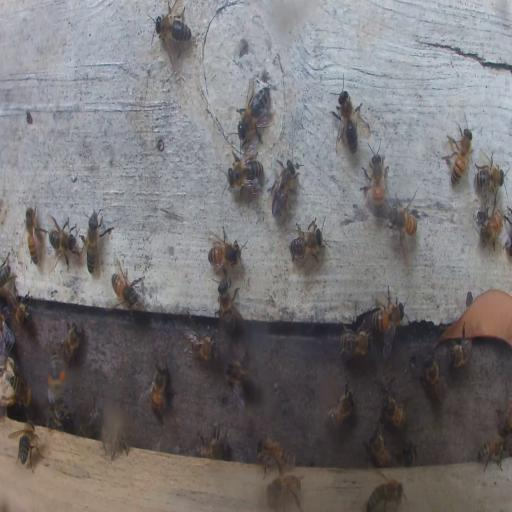bee: (236, 79, 272, 144), (333, 82, 362, 154), (223, 352, 262, 404), (269, 156, 300, 220), (152, 2, 192, 50), (444, 122, 473, 186), (362, 146, 388, 216), (47, 215, 79, 267), (386, 195, 419, 245), (206, 228, 244, 271), (227, 146, 263, 191), (111, 268, 144, 316), (289, 218, 325, 262), (324, 385, 356, 433), (473, 149, 506, 195), (255, 434, 291, 474), (12, 421, 40, 469), (368, 477, 407, 511), (84, 208, 103, 276), (216, 279, 240, 331), (370, 298, 404, 334), (56, 320, 83, 364), (478, 205, 506, 247), (266, 474, 302, 506), (380, 389, 407, 431), (367, 426, 394, 468), (477, 435, 507, 472), (46, 352, 66, 406), (148, 362, 167, 418), (186, 329, 218, 362), (423, 354, 445, 400), (338, 330, 372, 359), (26, 205, 42, 266), (445, 334, 473, 366), (7, 367, 30, 404), (193, 431, 225, 457), (6, 297, 30, 325), (496, 392, 510, 438), (0, 313, 16, 352), (51, 403, 73, 431), (108, 431, 130, 458), (78, 410, 100, 436), (0, 256, 14, 296), (401, 442, 417, 467)
